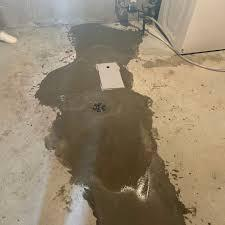water accumulation: (35, 22, 189, 225)
